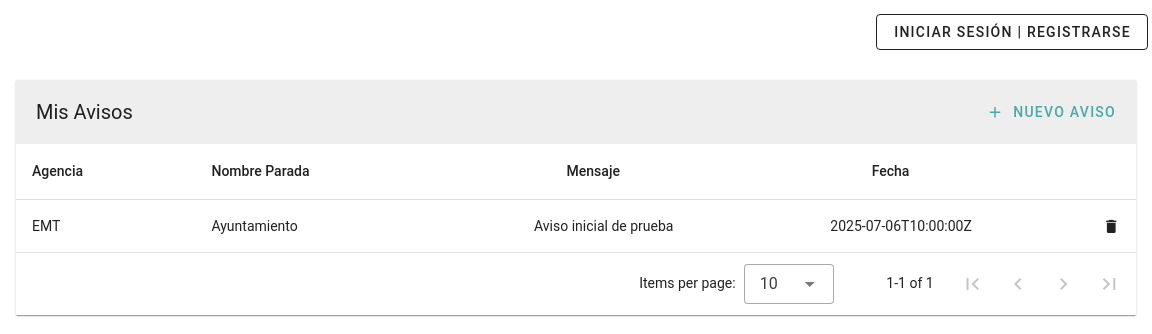
Test: Flujo de Gestión de Avisos de Usuario › debería permitir borrar un aviso existente
This screenshot has width=1152, height=334.
Check: the text "Aviso inicial de prueba" is shown, box x1=456 y1=200 x2=752 y2=252
# Acción de borrar
Click the button with test id "btn-borrar-aviso" at (1112, 227), box x1=1103 y1=218 x2=1121 y2=236
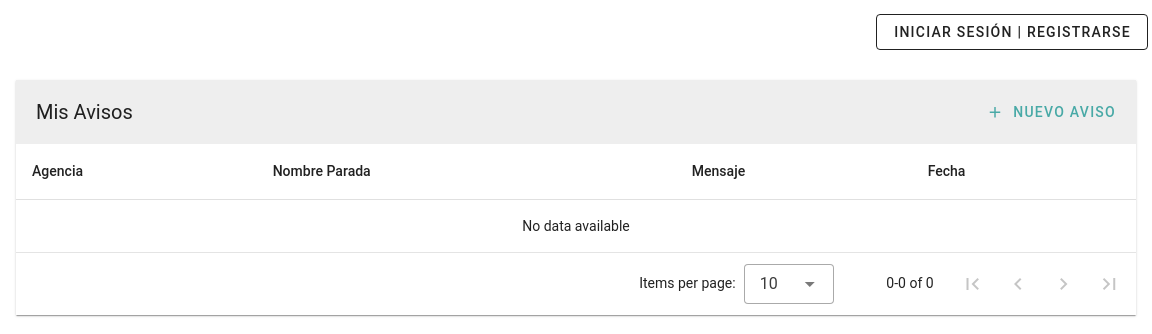
Check: the text "Aviso inicial de prueba" is gone
